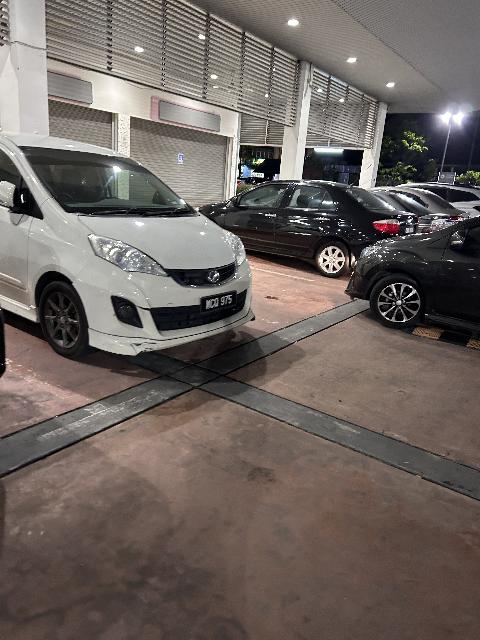License_Plate: (200, 289, 239, 317)
car: (2, 126, 259, 364), (190, 168, 464, 282), (348, 212, 480, 342)
